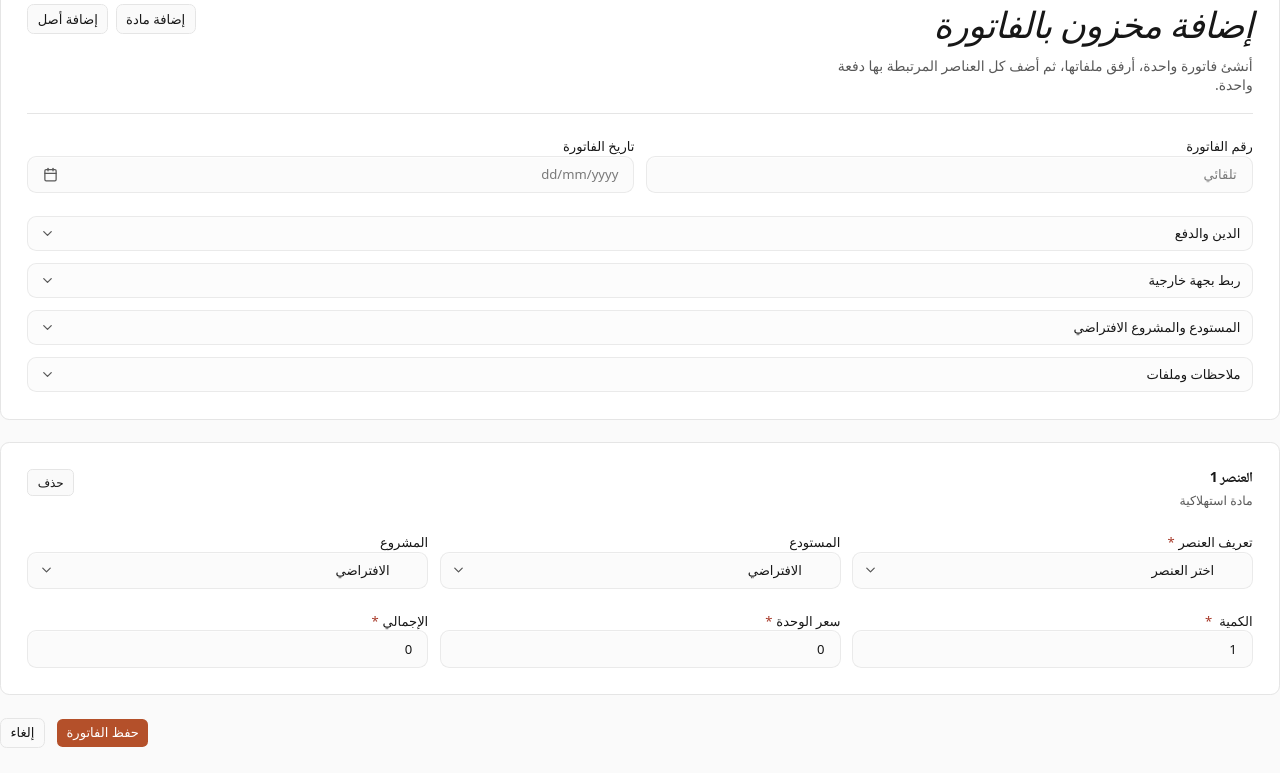
Scenario: InventoryInvoiceCreatePage progressive disclosure (issue #25) › blocks submitting a negative paid amount (issue #42)
Click the button "الدين والدفع": (1208, 233) [28, 217, 1252, 250]
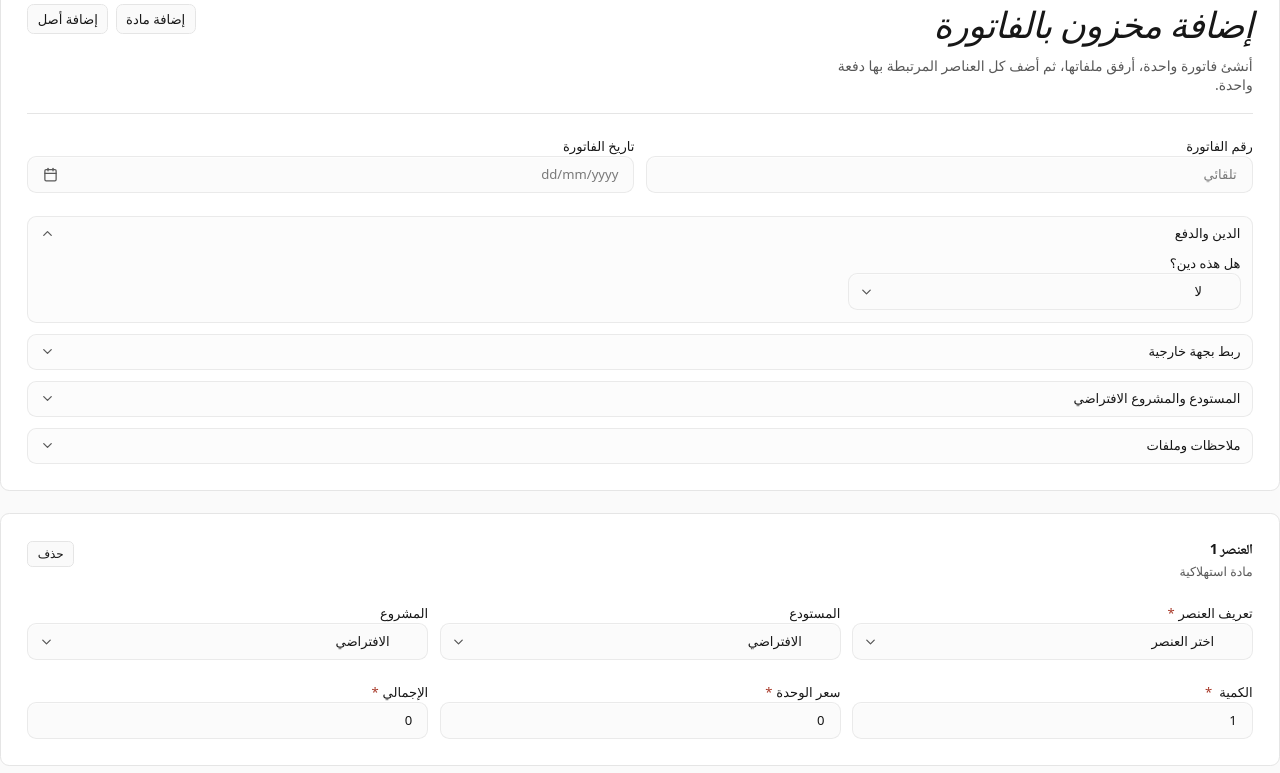
Expected: the button "الدين والدفع" is expanded, [28, 217, 1252, 250]
Select "نعم" in the dropdown labelled "هل هذه دين؟": (1044, 292) [848, 273, 1240, 310]
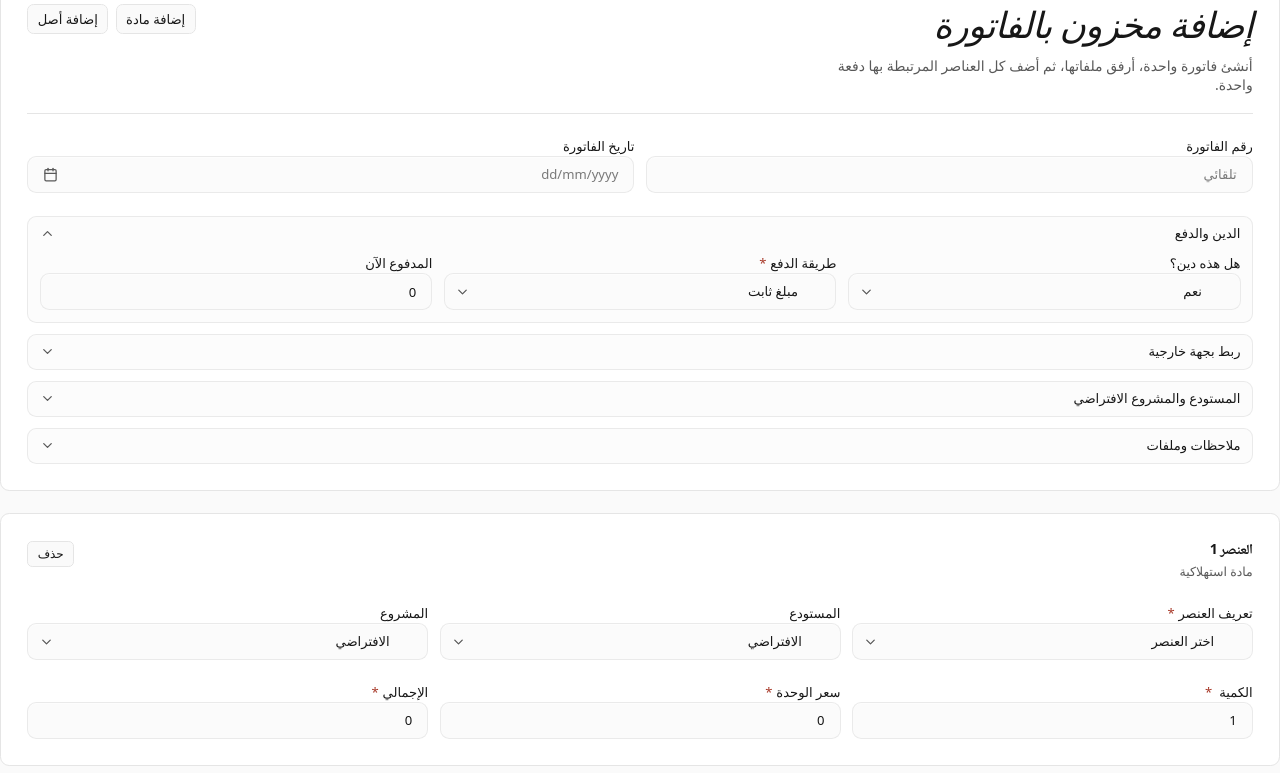
Replace the text in the number field labelled "المدفوع الآن" with "-5": (236, 292) [40, 273, 432, 310]
(page scrolled)
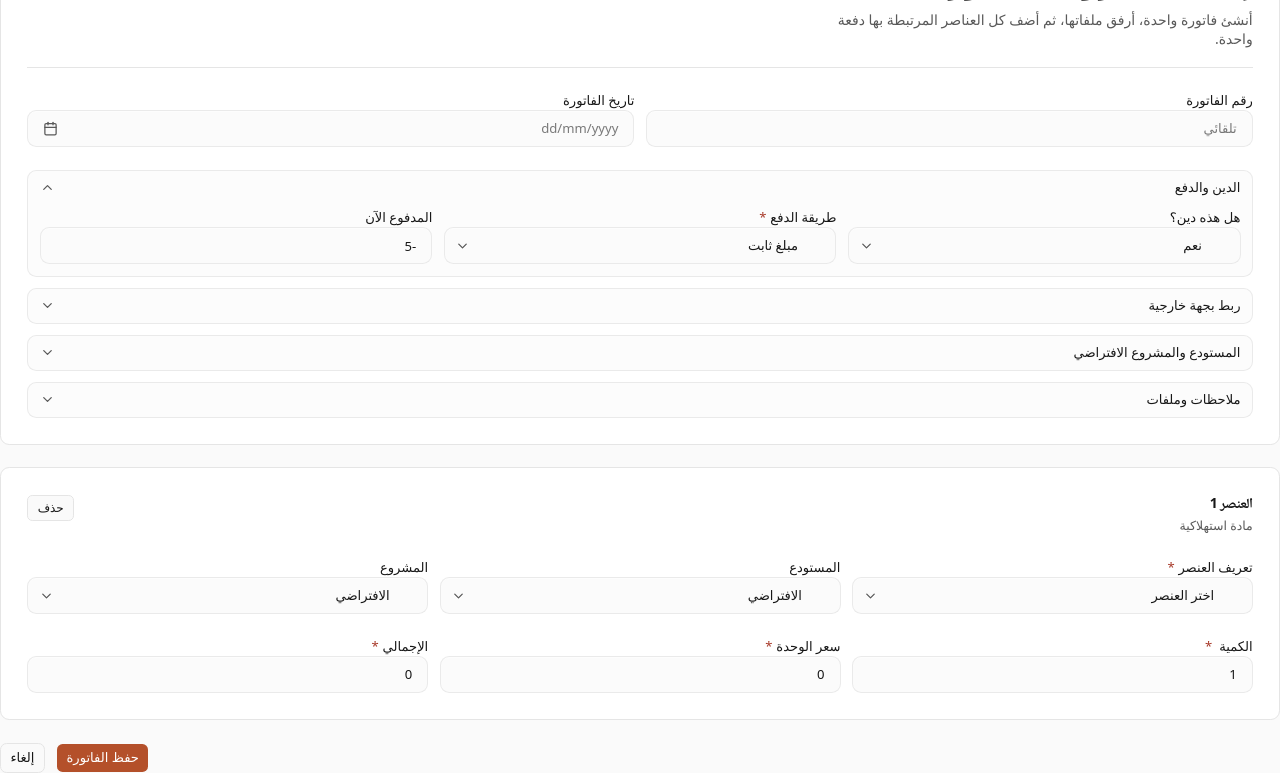
Click the button "حفظ الفاتورة": (103, 758) [56, 743, 149, 772]
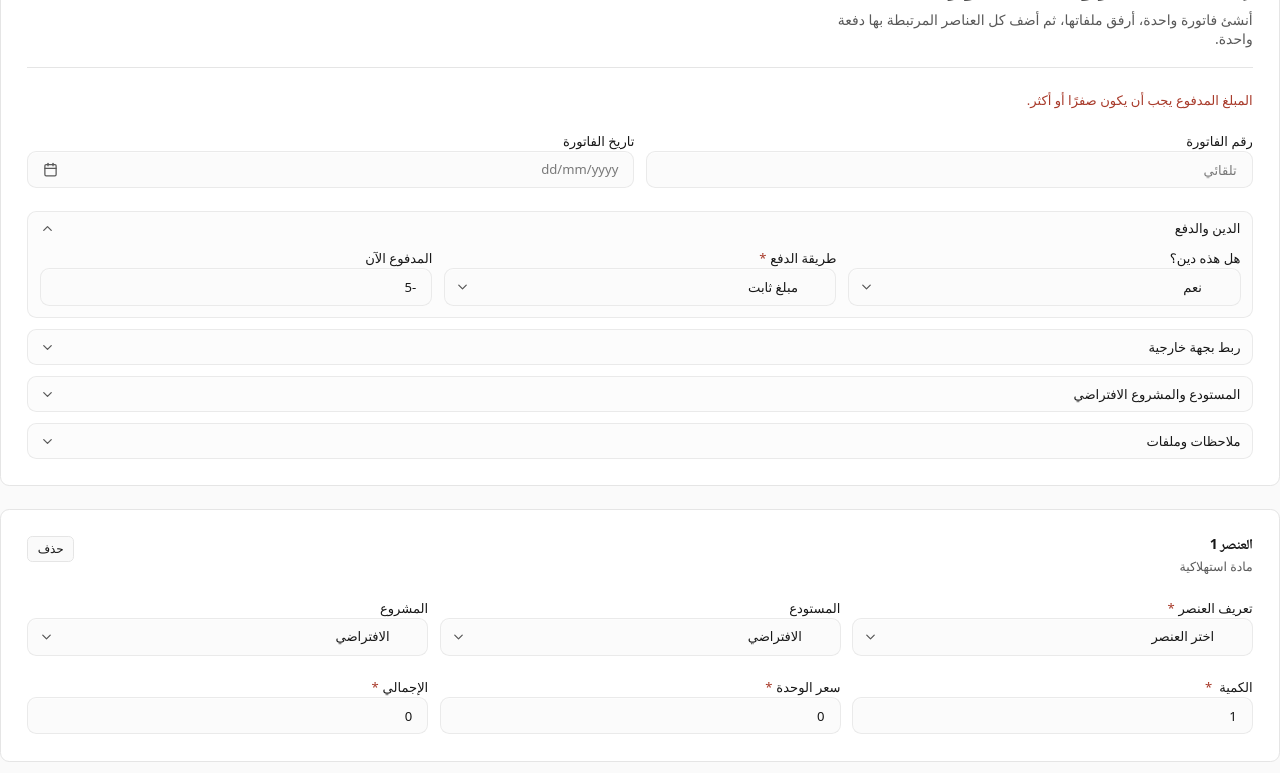
Expected: the text "المبلغ المدفوع يجب أن يكون صفرًا أو أكثر." is shown, [1027, 91, 1253, 109]
